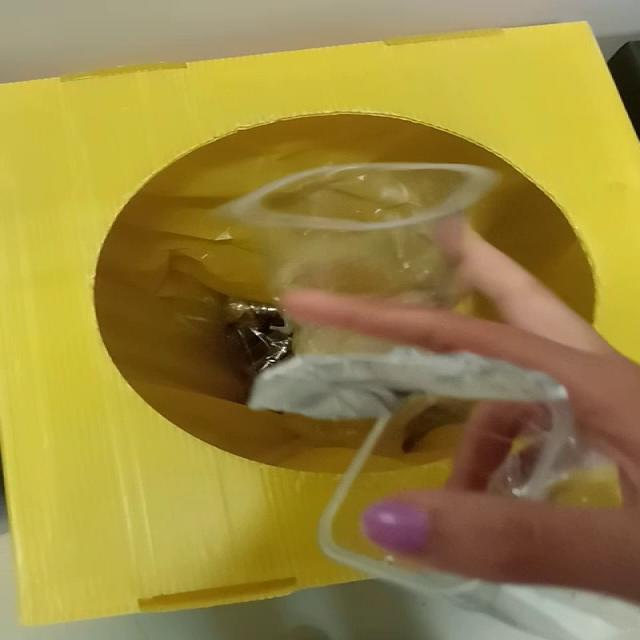Plastic: (216, 163, 497, 306), (293, 327, 388, 354)
